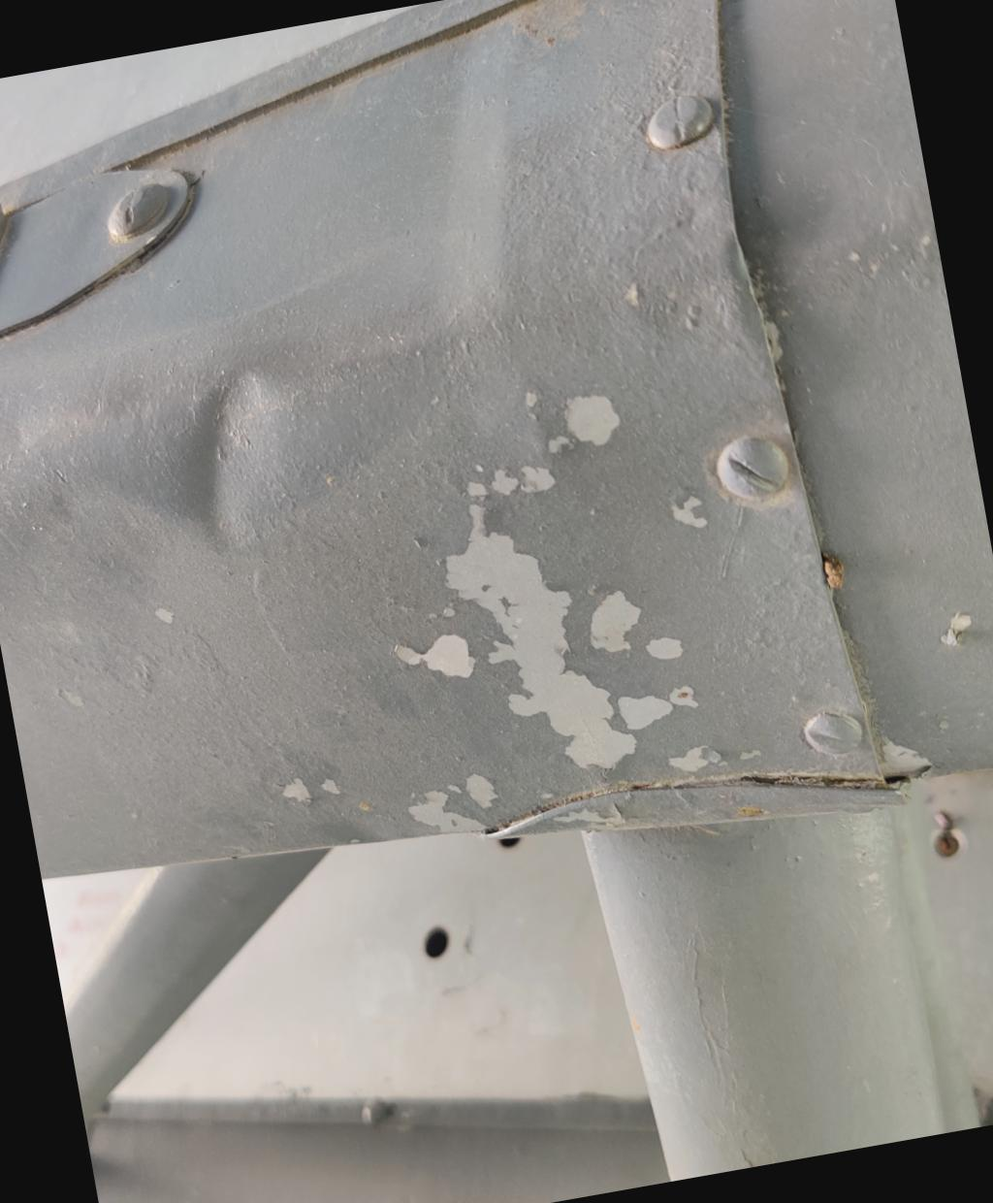corrosion: (316, 350, 775, 852)
dent: (128, 330, 319, 570)
